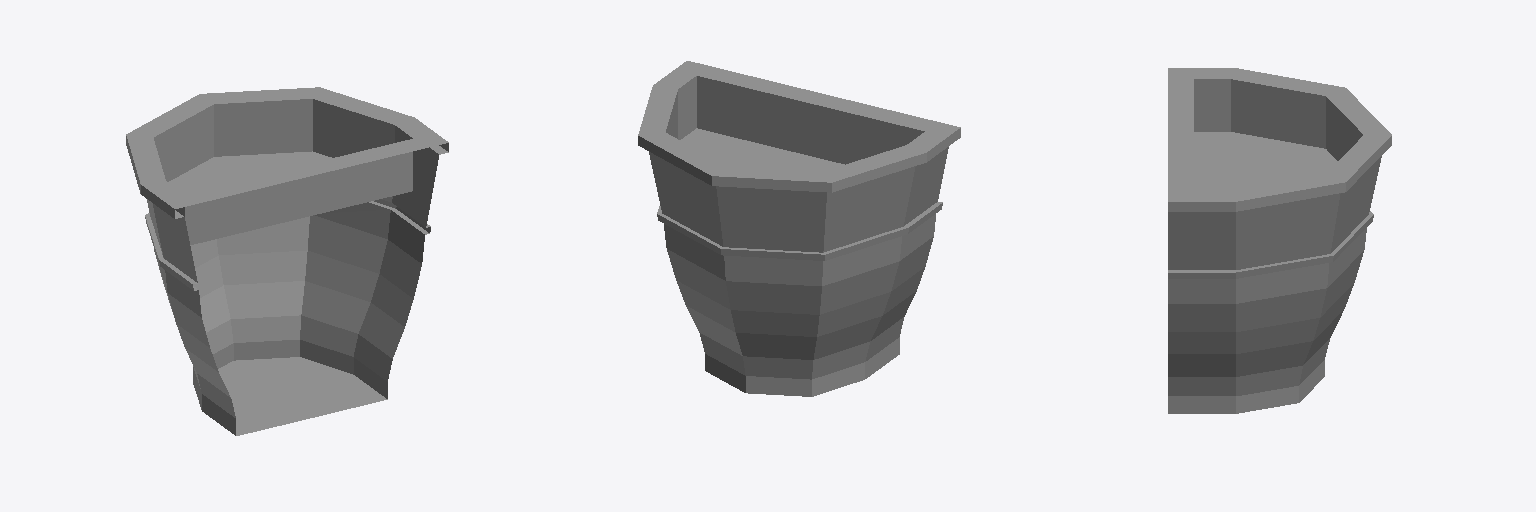
The model's file is DrainpipeTop.obj.
3 renders of one model, left to right at view 1: azimuth 30°, elevation 25°; view 2: azimuth 150°, elevation 25°; view 3: azimuth 270°, elevation 25°, orthographic.
Visible parts, largest first — view 1: DrainpipeTop_DrainpipeTop.001; view 2: DrainpipeTop_DrainpipeTop.001; view 3: DrainpipeTop_DrainpipeTop.001.
Boxes of the visible parts, <box> form: DrainpipeTop_DrainpipeTop.001: <box>126,87,448,435</box>; DrainpipeTop_DrainpipeTop.001: <box>638,61,960,396</box>; DrainpipeTop_DrainpipeTop.001: <box>1168,68,1391,413</box>.
Bounding box in the file's own units: 0.3722 × 0.314 × 0.2641.